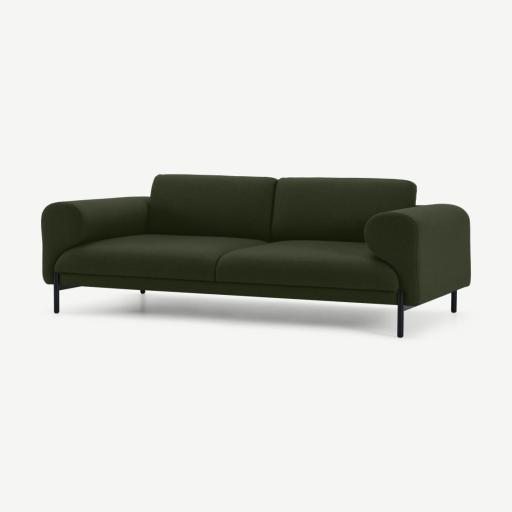back_cushion: (145, 175, 415, 242)
base: (60, 274, 396, 304)
left_arm: (365, 205, 470, 311)
legs: (397, 292, 413, 337), (53, 273, 64, 313), (452, 291, 456, 312)
right_arm: (42, 198, 148, 284)
seat_cushion: (57, 234, 397, 290)
two-seater: (0, 0, 511, 512)
